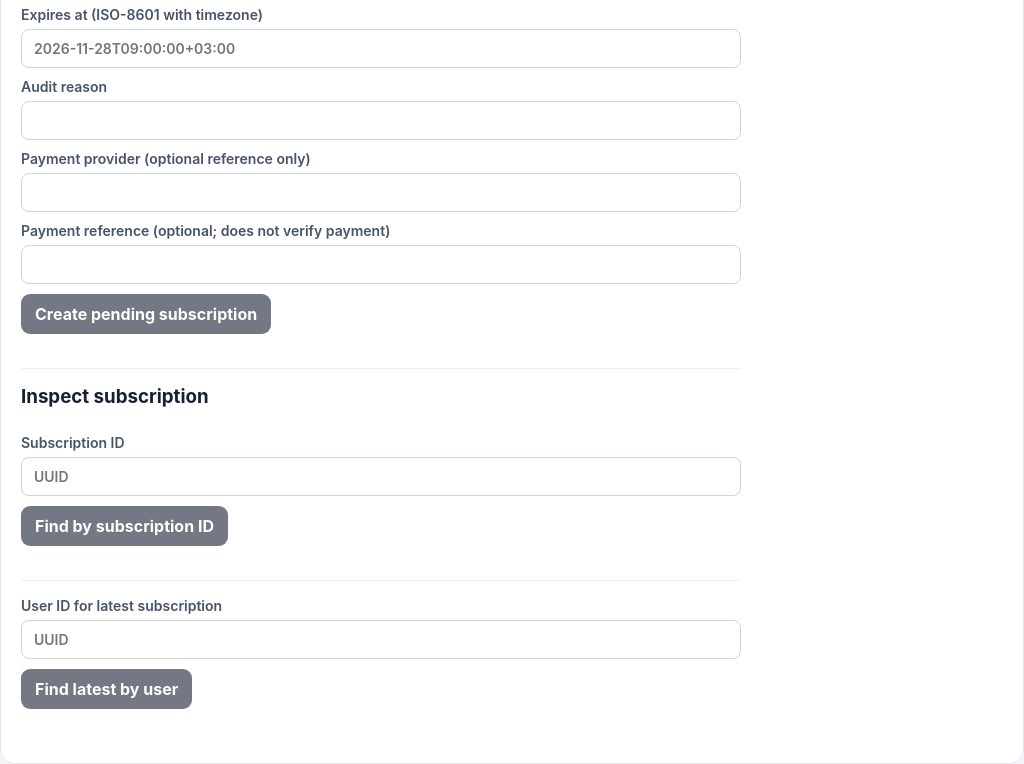
Scenario: SubscriptionAdminPanel › does not offer transitions from a terminal subscription status
The image size is (1024, 764).
(page scrolled)
Type "subscription-terminal" into the field labelled "Subscription ID" at (381, 476), box [21, 457, 741, 496]
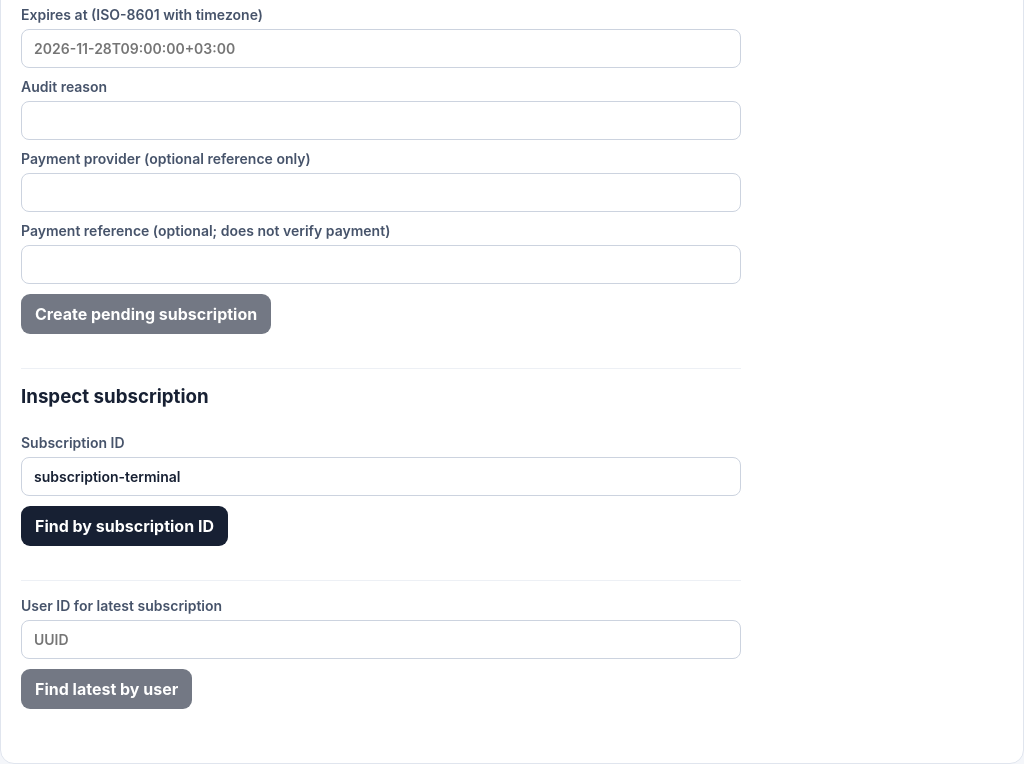
Click the button "Find by subscription ID" at (124, 526), box [21, 506, 228, 546]
(page scrolled)
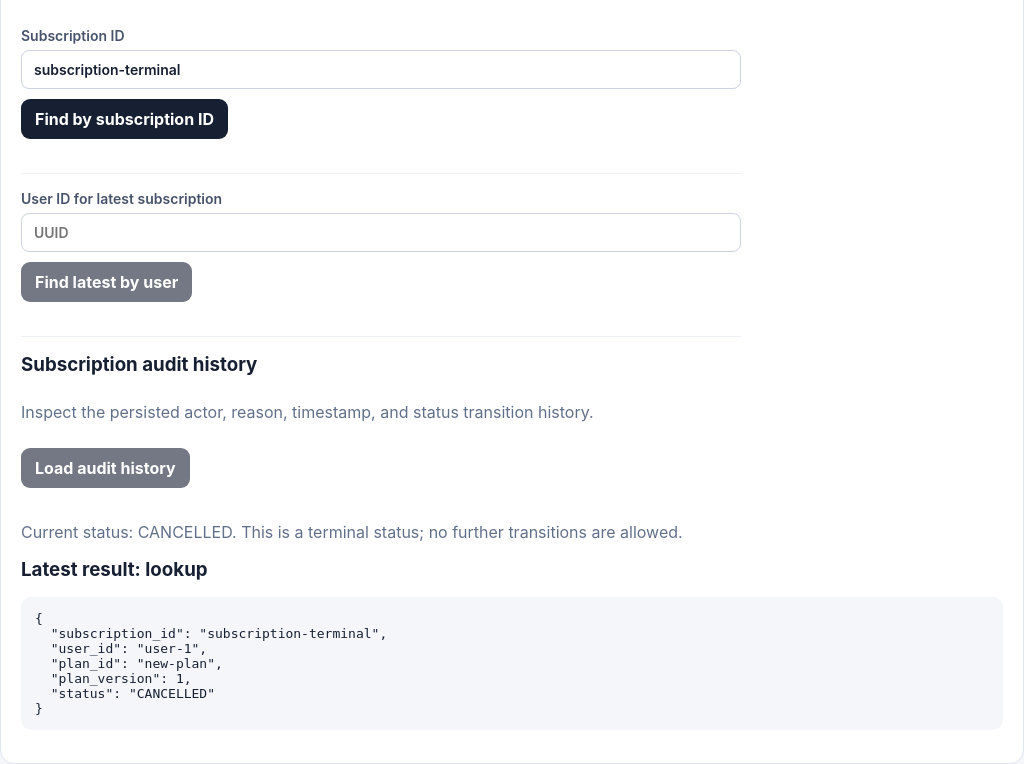
Now the text "This is a terminal status; no further transitions are allowed." is shown, box [232, 522, 683, 542]
